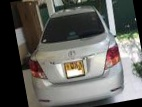car: (20, 1, 127, 107)
